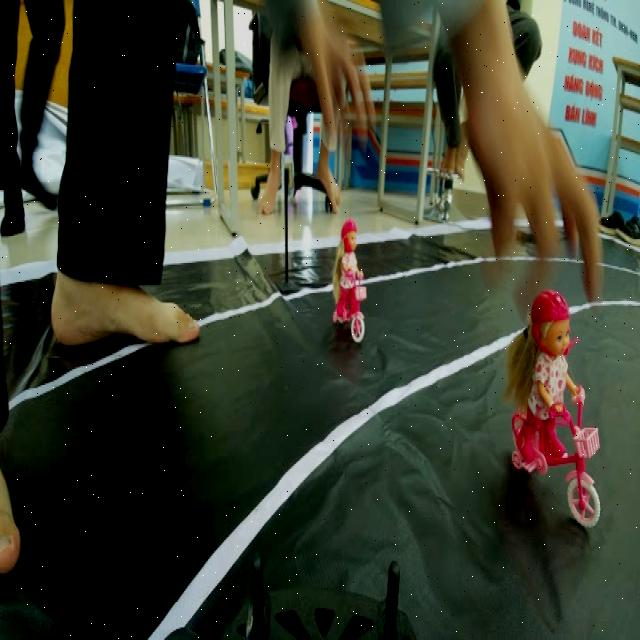pedestrian: (504, 298, 611, 532), (325, 226, 375, 351)
